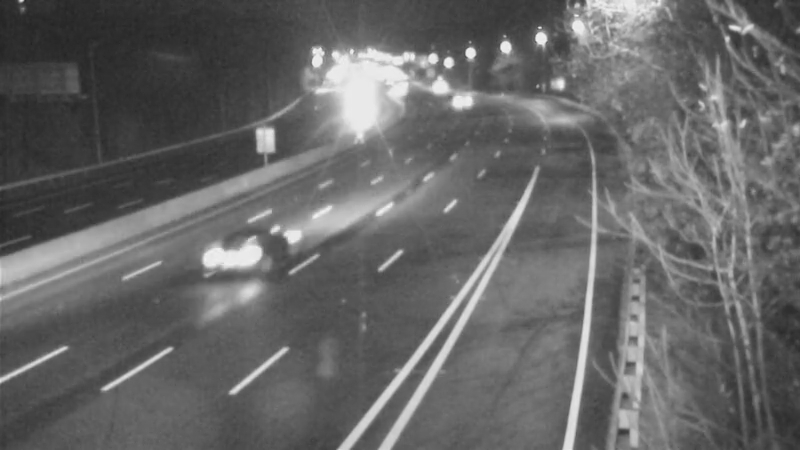vehicle: (205, 215, 285, 295), (409, 61, 459, 111), (430, 70, 480, 120)
